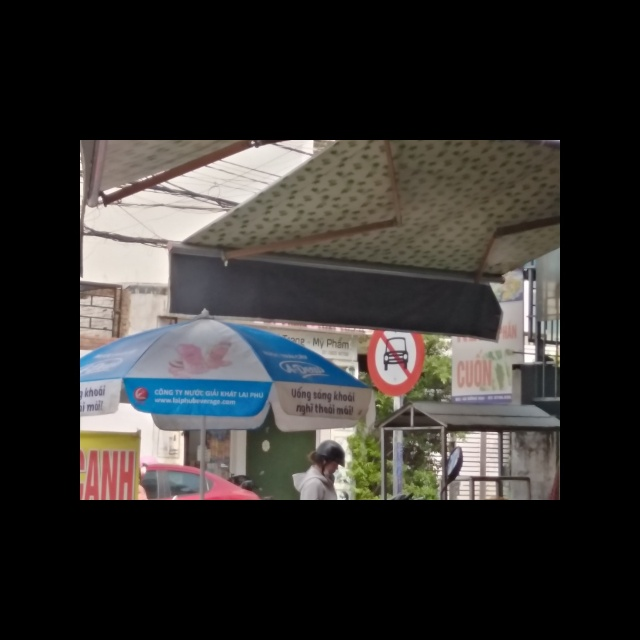Cấm xe ô tô: (364, 326, 426, 395)
